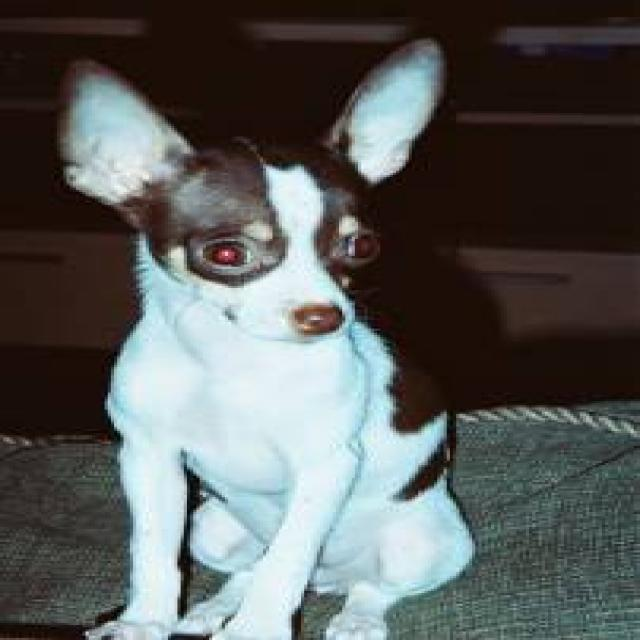dog-chihuahua: (44, 26, 485, 636)
